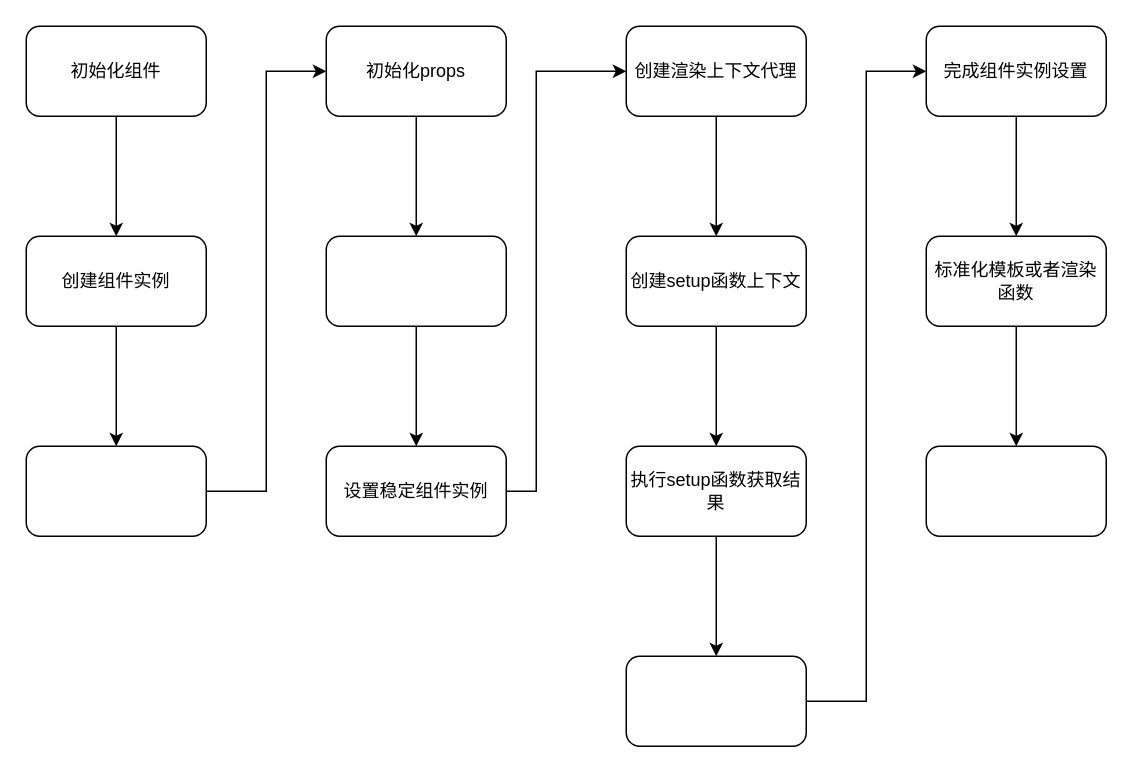
Some shapes in this 1133 by 773 pixel diagram are drawn without their labels. Here are the shapes that lost their labels. From the top down, the centre of each, then its label:
point (415, 280): 初始化插槽
point (115, 490): 设置组件实例
point (1015, 490): 兼容Options API
point (715, 700): 处理setup函数执行结果
